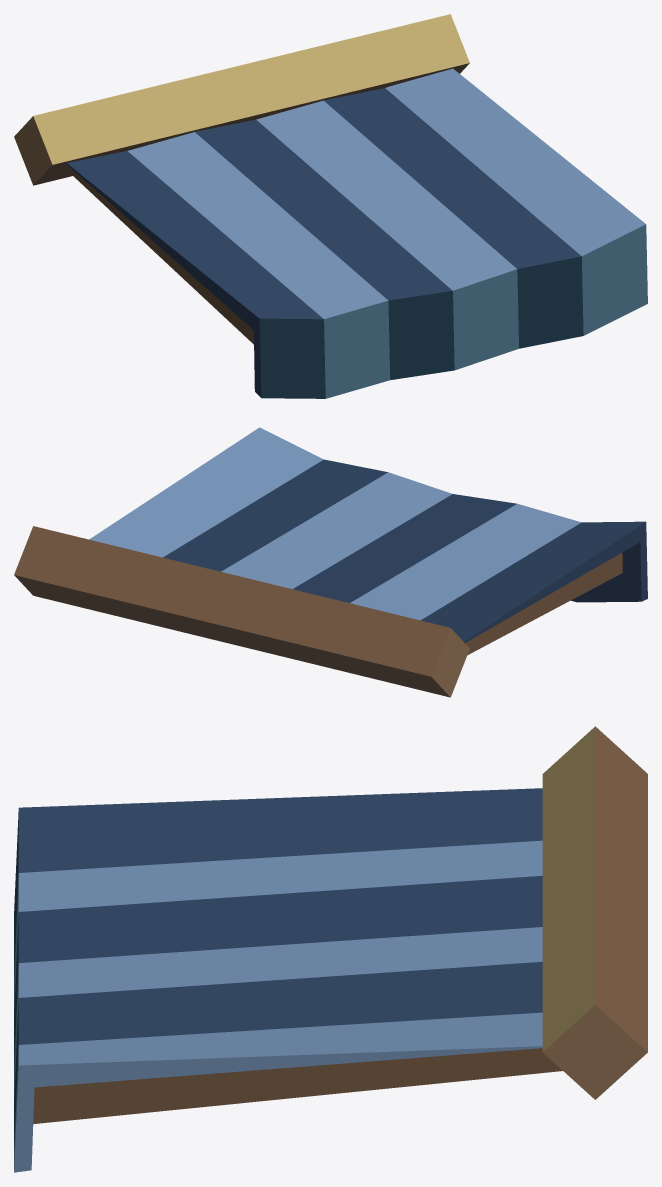
The model's file is TB_D_Bd_Canopy_Str_C.FBX.
3 views of the same model, one above another, from view 1: azimuth 30°, elevation 25°; view 2: azimuth 150°, elevation 25°; view 3: azimuth 270°, elevation 25° (orthographic). The views are drawn at different scales.
Parts seen in each view (by area): view 1: TB_D_Bd_Canopy_Str_C; view 2: TB_D_Bd_Canopy_Str_C; view 3: TB_D_Bd_Canopy_Str_C.
Part boxes in pixels (x1,y1,x2,y2): TB_D_Bd_Canopy_Str_C: [14, 14, 647, 398]; TB_D_Bd_Canopy_Str_C: [14, 427, 647, 697]; TB_D_Bd_Canopy_Str_C: [14, 726, 647, 1172].
Bounding box in the file's own units: 1.88 × 0.6442 × 1.81.
